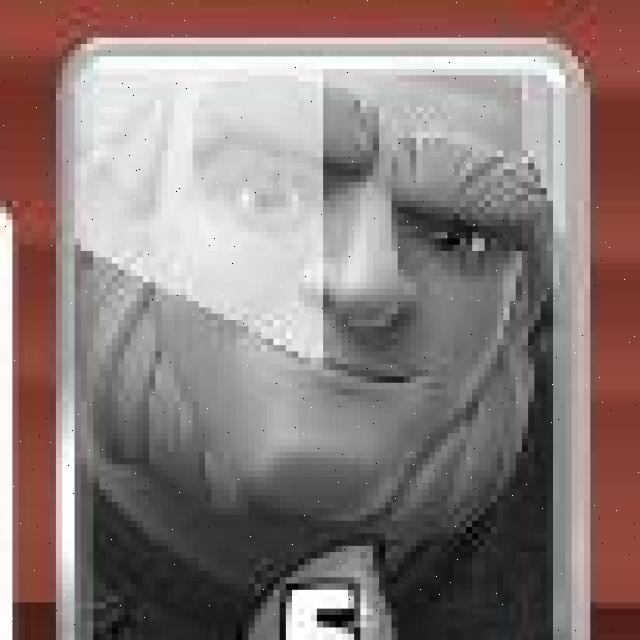Giant: (51, 38, 588, 640)
